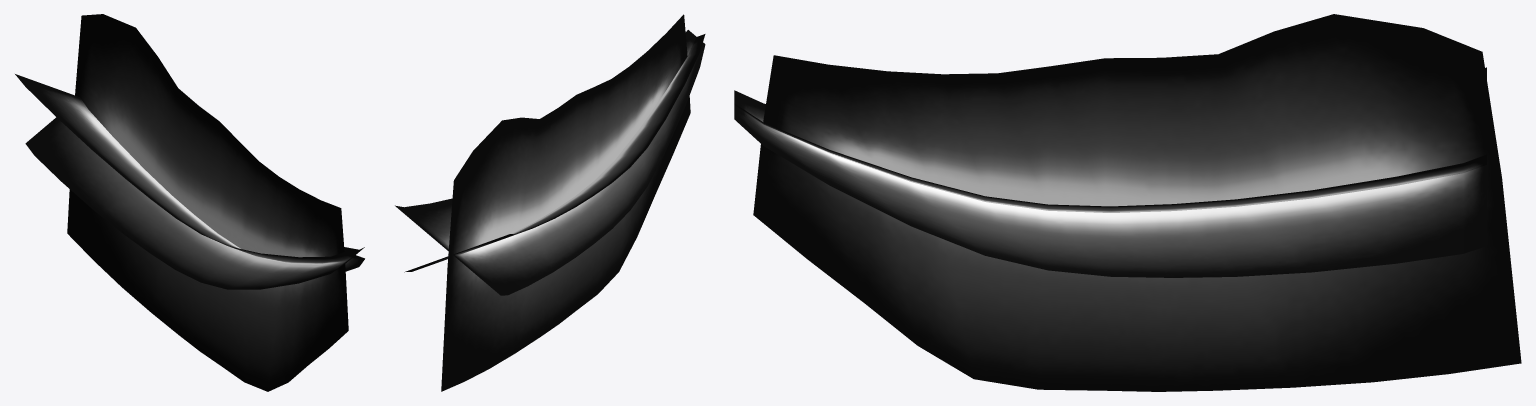
Rendered from FX_lfl_wuqi_336_glow.FBX.
3 renders of one model, left to right at view 1: azimuth 30°, elevation 25°; view 2: azimuth 150°, elevation 25°; view 3: azimuth 270°, elevation 25°, orthographic. The views are drawn at different scales.
Parts seen in each view (by area): view 1: Plane004; view 2: Plane004; view 3: Plane004.
Part boxes in pixels (left/top/right/bottom): Plane004: left=15, top=14, right=364, bottom=391; Plane004: left=395, top=14, right=705, bottom=391; Plane004: left=734, top=14, right=1521, bottom=391.
Bounding box in the file's own units: 15.94 × 32.22 × 60.81.
Materials: 1 (1 with a texture image).
